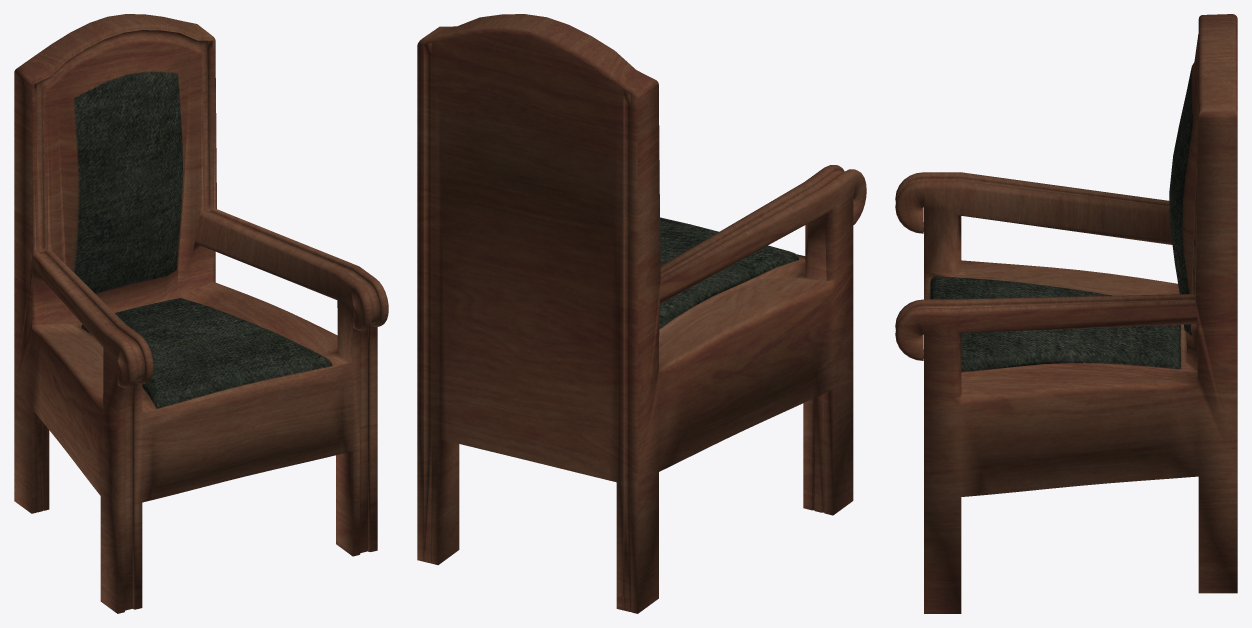
File: Bergere.obj
The picture shows the model from 3 angles, left to right: view 1: azimuth 30°, elevation 25°; view 2: azimuth 150°, elevation 25°; view 3: azimuth 270°, elevation 25°; orthographic projection. The views are drawn at different scales.
Parts seen in each view (by area): view 1: Bergere; view 2: Bergere; view 3: Bergere.
Part boxes in pixels (x1,y1,x2,y2): Bergere: (14,14,388,613); Bergere: (417,14,866,613); Bergere: (895,14,1237,613).
Bounding box in the file's own units: 0.6856 × 1.16 × 0.7016.
Materials: 1 (1 with a texture image).
